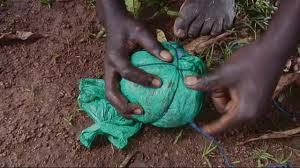Plastic bag: (65, 37, 204, 153)
